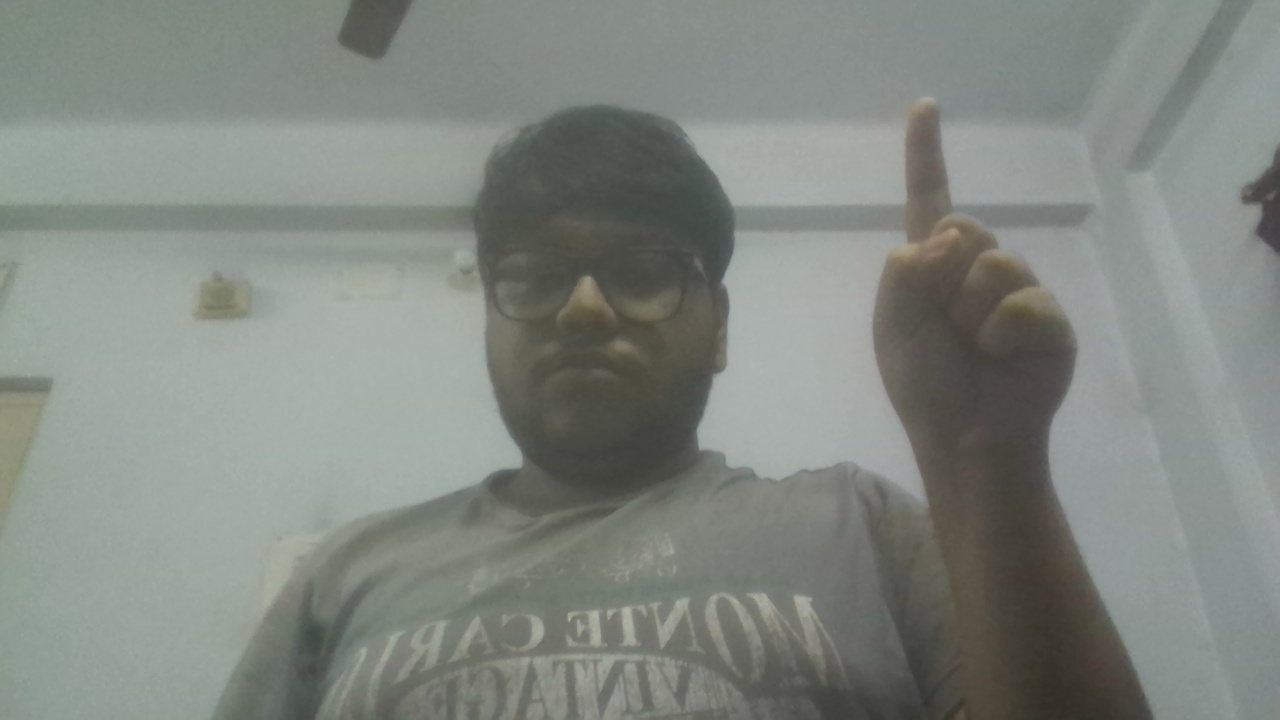Gesture1: (861, 87, 1090, 459)
